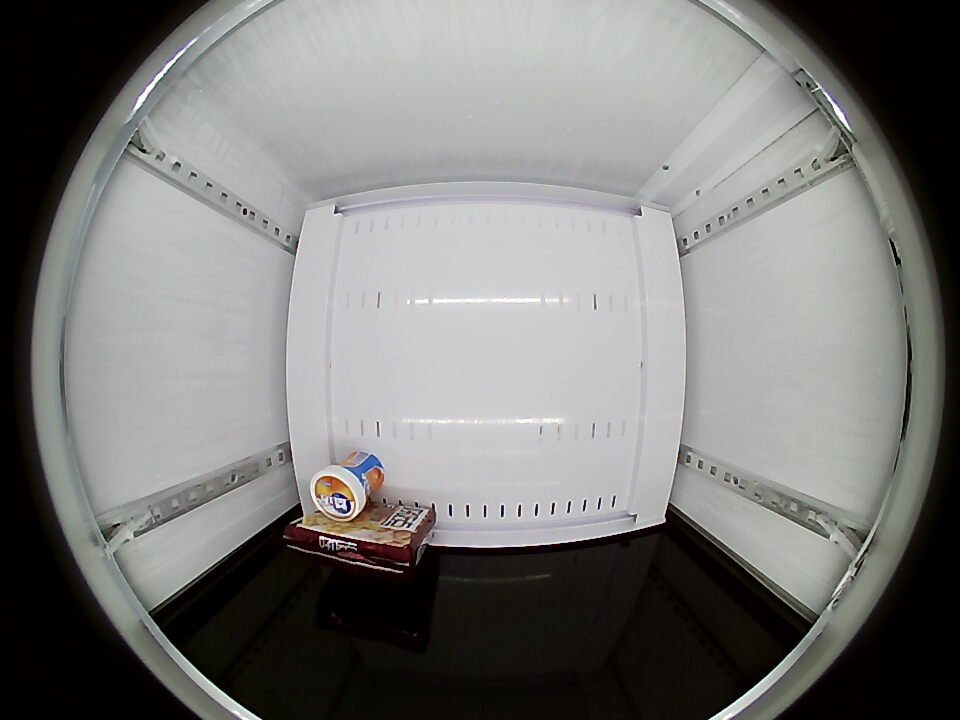haochidian: (284, 519, 426, 575)
